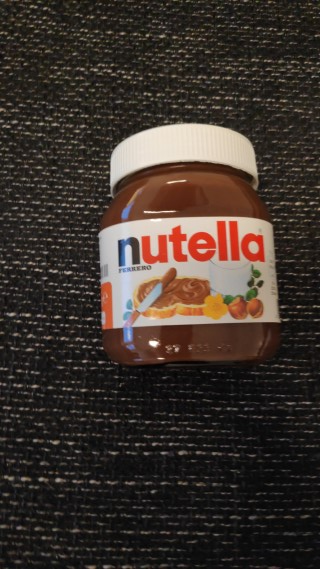nutella: (95, 122, 279, 367)
